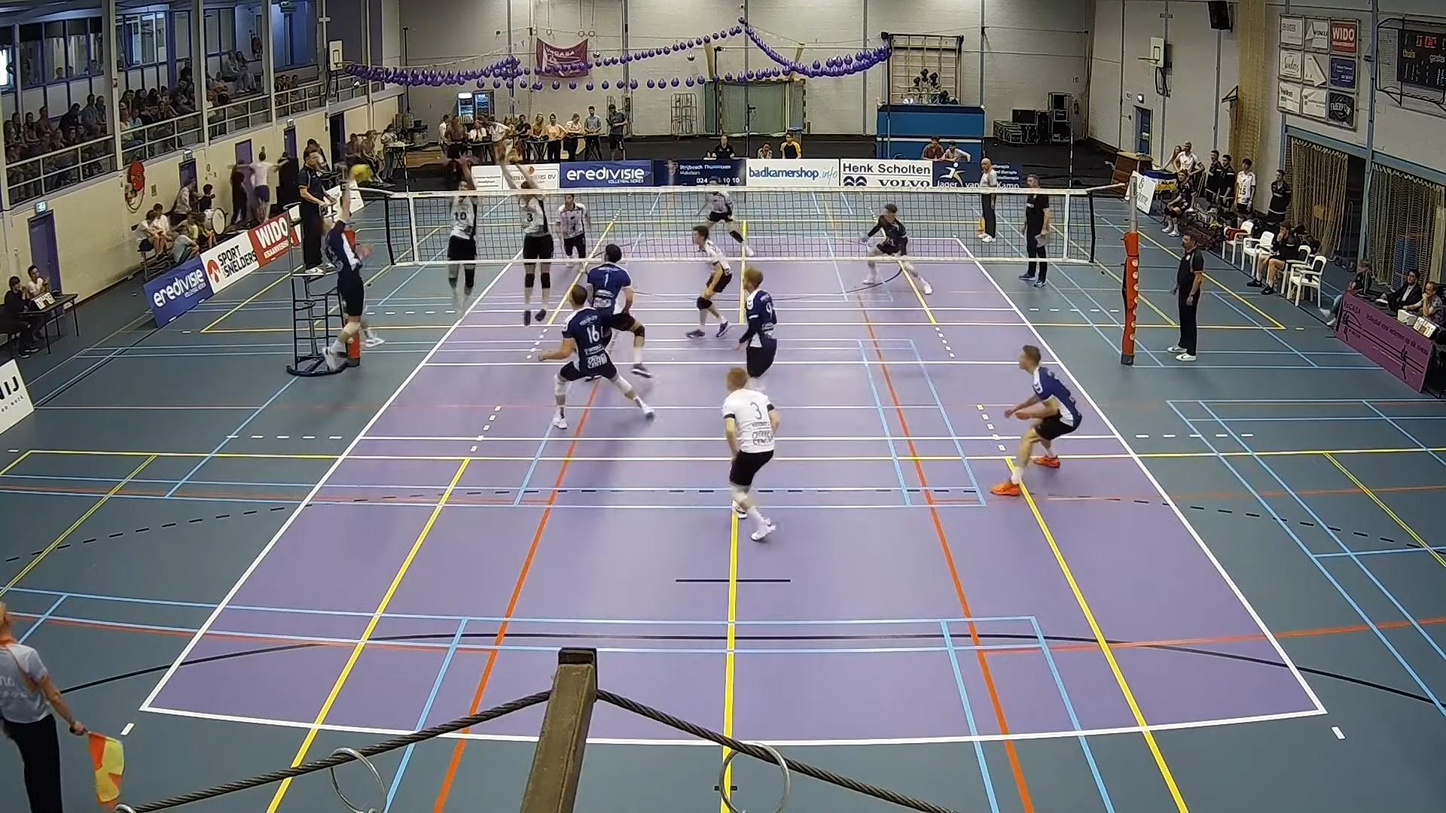Attack: (317, 165, 384, 371)
Block: (491, 147, 560, 328), (432, 147, 482, 315)
Player: (539, 285, 654, 429), (991, 345, 1081, 495), (722, 367, 778, 540), (585, 243, 651, 377), (860, 203, 932, 294), (686, 225, 731, 337), (738, 267, 776, 391), (704, 187, 752, 254), (557, 193, 589, 273)
ball: (347, 165, 370, 180)
